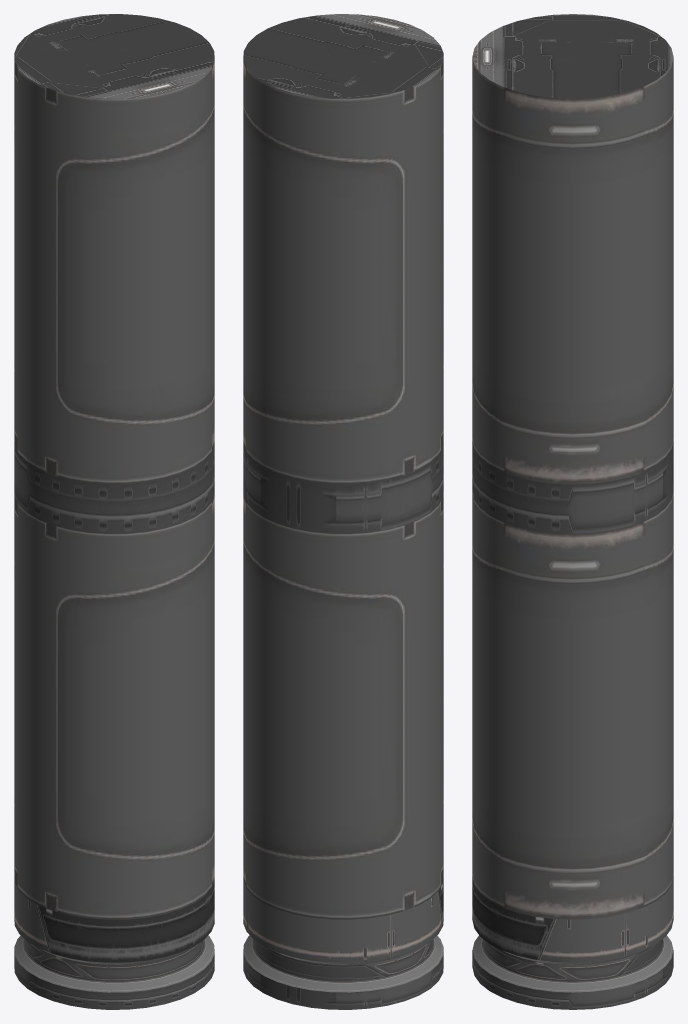
File: Column_Round.glb
The picture shows the model from 3 angles, left to right: view 1: azimuth 30°, elevation 25°; view 2: azimuth 150°, elevation 25°; view 3: azimuth 270°, elevation 25°; orthographic projection.
Visible parts, largest first — view 1: Column_Round; view 2: Column_Round; view 3: Column_Round.
Part boxes in pixels (x1,y1,x2,y2): Column_Round: (14,14,214,1009); Column_Round: (243,14,443,1009); Column_Round: (472,14,673,1009).
Size of the model in its own units: 0.9998 by 5 by 0.9998.
Materials: 2 (2 with a texture image).
